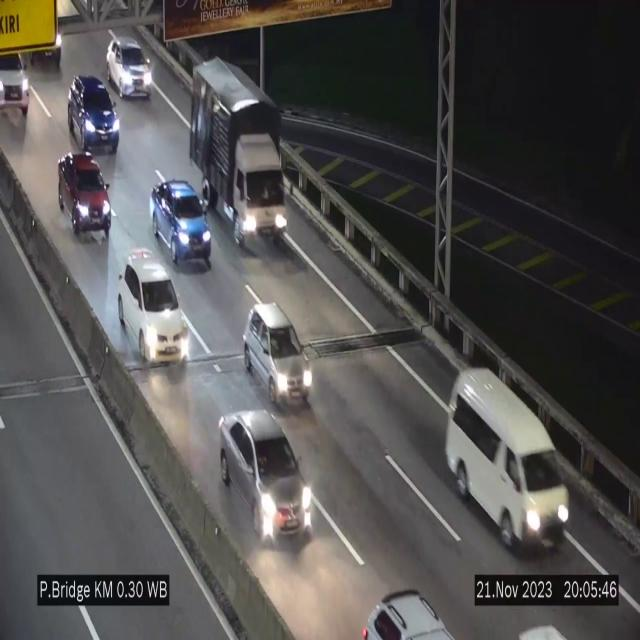Car: (446, 368, 570, 551), (215, 407, 314, 552), (116, 251, 190, 365), (243, 304, 312, 408), (150, 180, 212, 270), (57, 152, 112, 242), (358, 592, 456, 640), (68, 75, 120, 154), (0, 28, 33, 122), (106, 37, 154, 98)
Truck: (188, 55, 290, 251)
